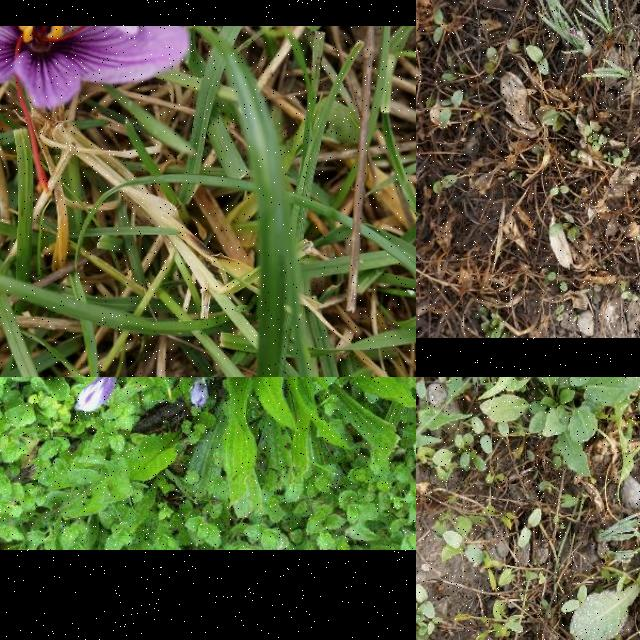flower: (0, 26, 190, 194), (76, 377, 118, 412), (190, 378, 210, 408)
